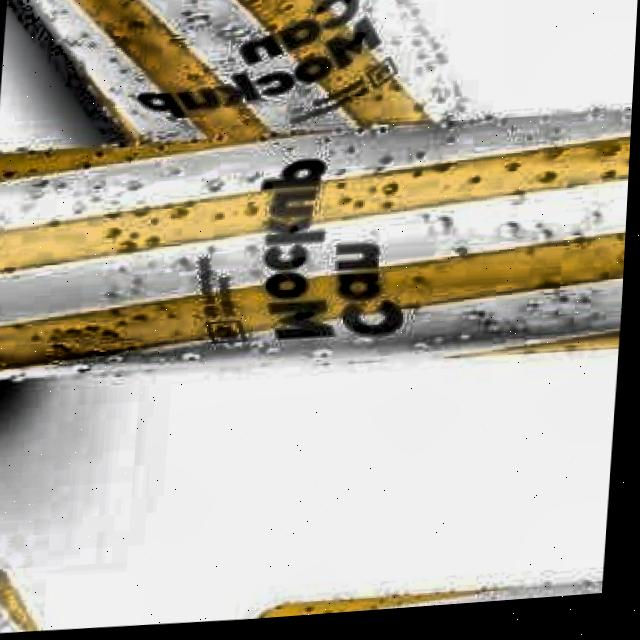metal: (0, 89, 635, 431), (0, 0, 491, 180)
